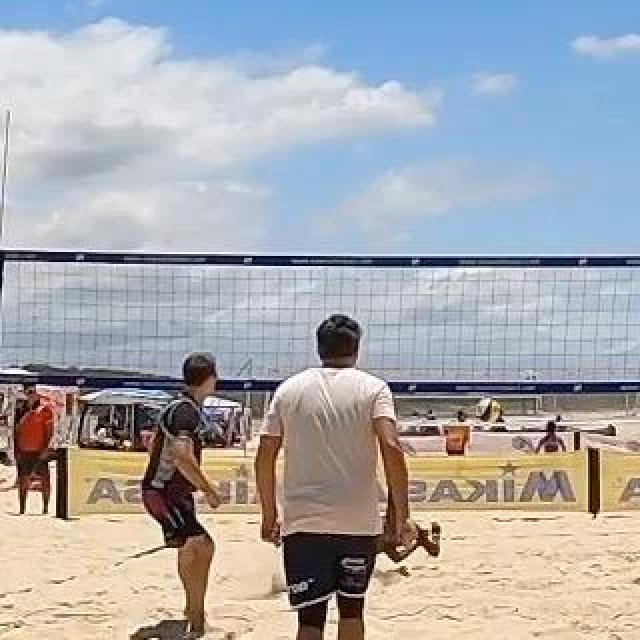volleyball: (478, 400, 502, 424)
